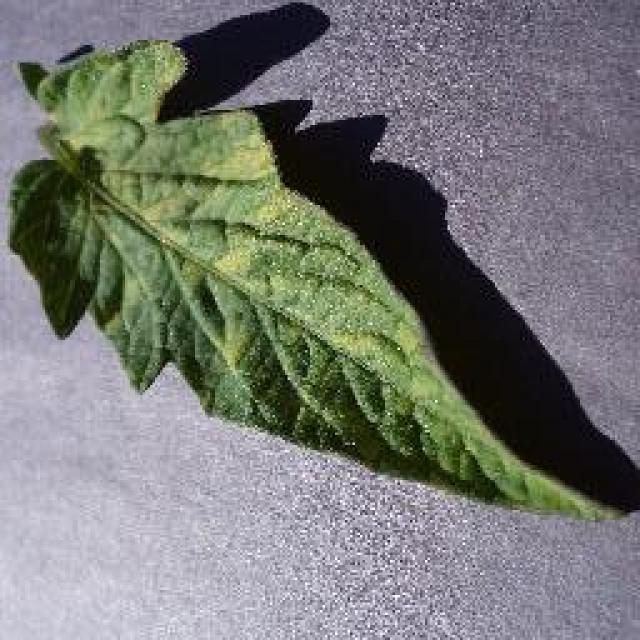Tomato mold leaf: (13, 41, 625, 511)
